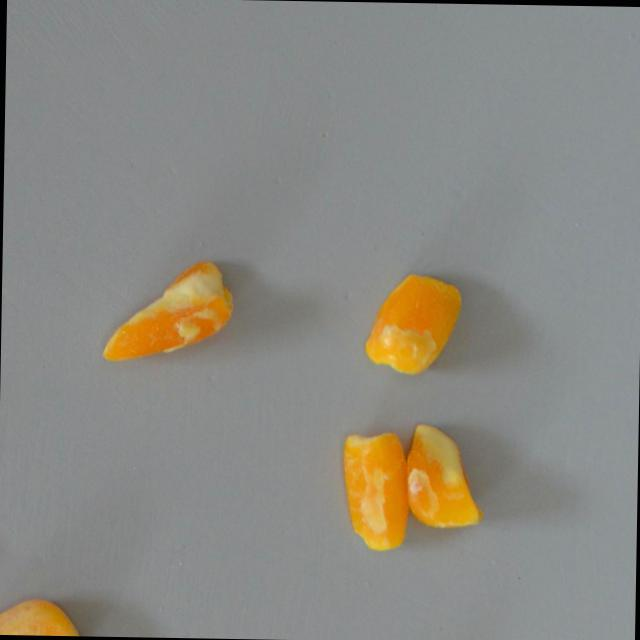pelicula: (99, 254, 237, 379), (362, 269, 465, 383), (327, 429, 415, 553), (400, 415, 487, 539), (0, 589, 87, 636)
